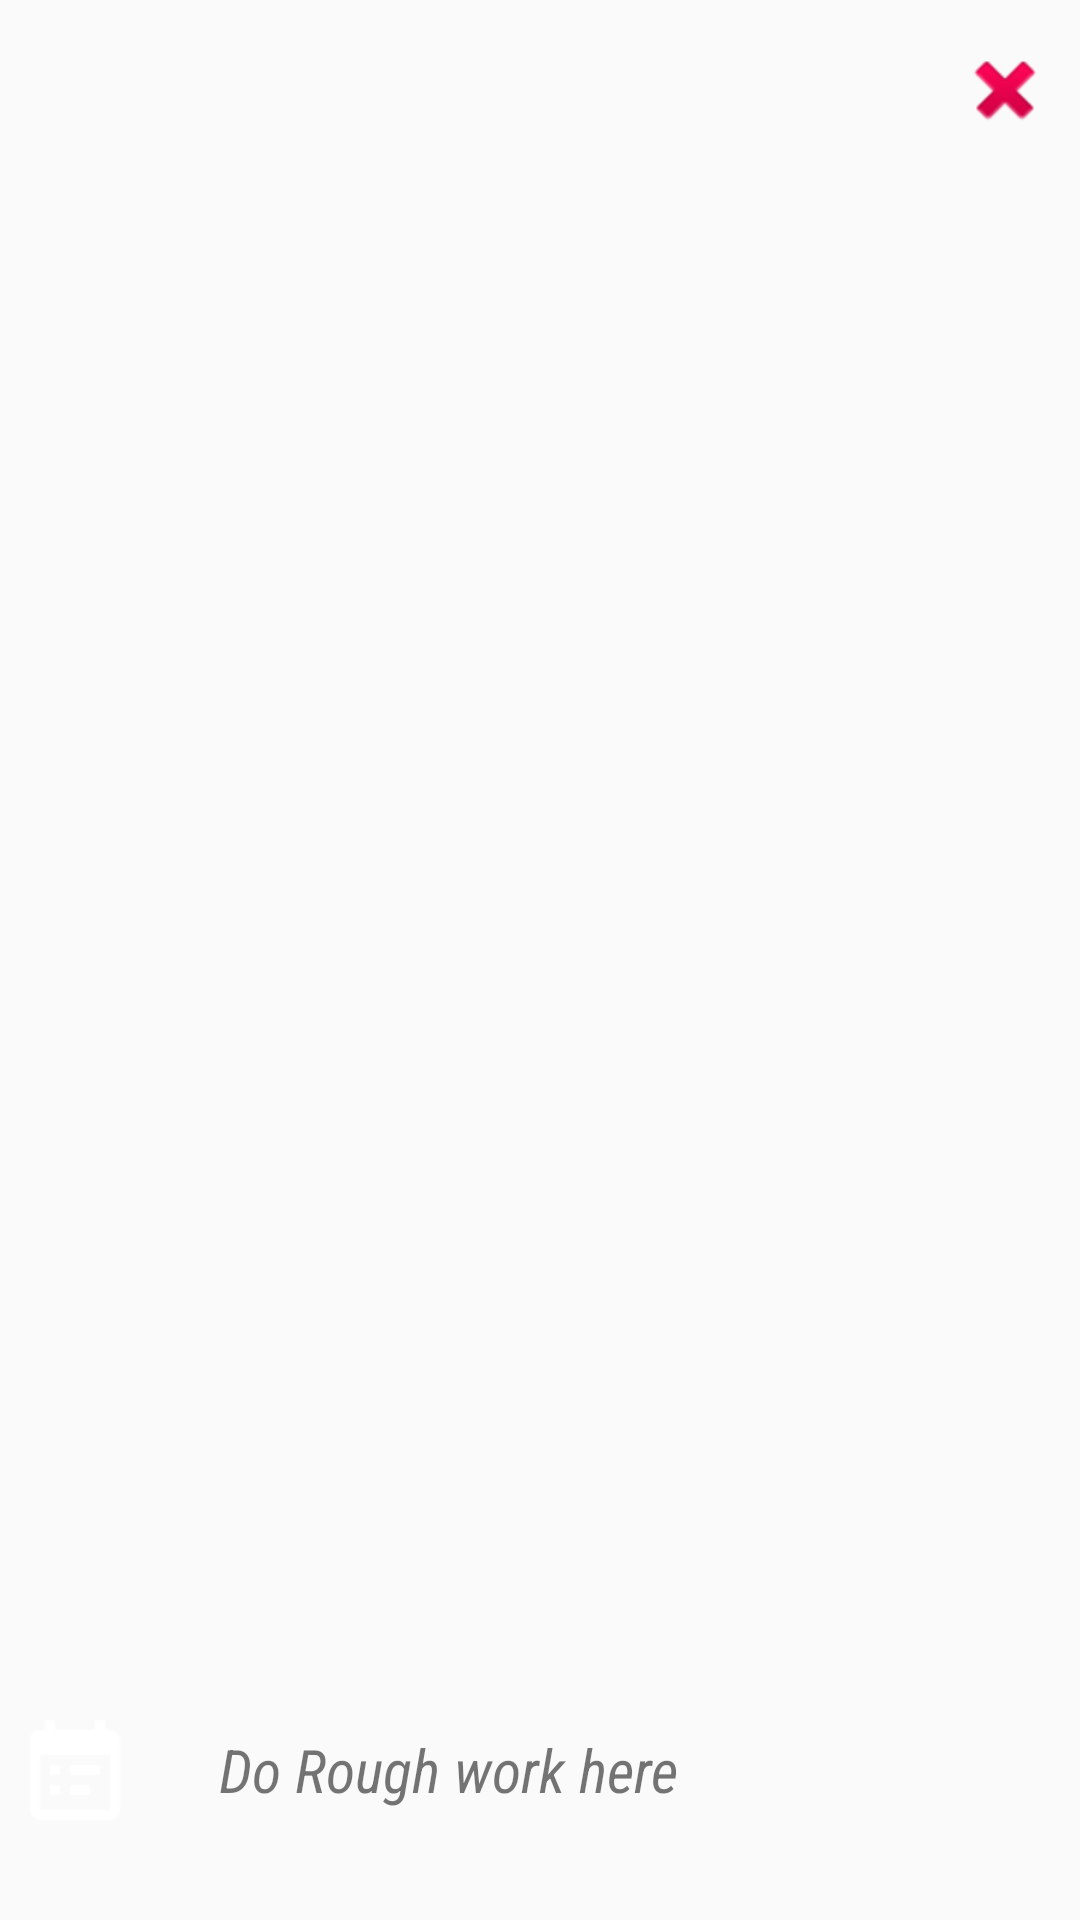

Screen size 1080×1920. Icon name, then its box in pixels as (x1, y1, x2, y2):
delete: (974, 61, 1036, 120)
